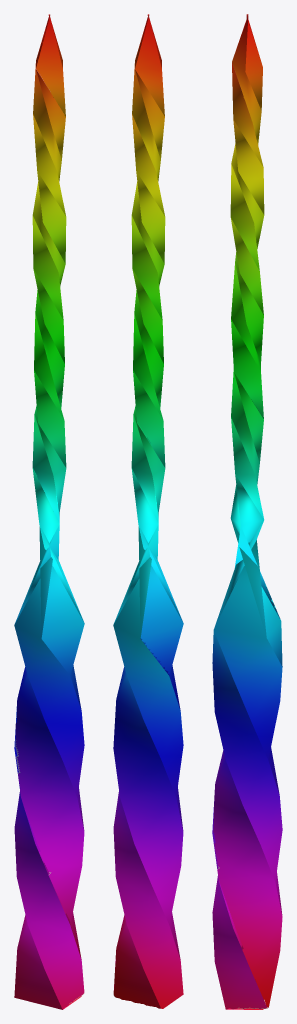
File: unicorn_fbx.FBX
3 views of the same model, side by side, from view 1: azimuth 30°, elevation 25°; view 2: azimuth 210°, elevation 25°; view 3: azimuth 330°, elevation 25° (orthographic).
Visible parts, largest first — view 1: unicorn; view 2: unicorn; view 3: unicorn.
Boxes of the visible parts, x1,y1,x2,y2 form: unicorn: [14, 14, 84, 1009]; unicorn: [113, 14, 183, 1008]; unicorn: [212, 14, 282, 1009].
Bounding box in the file's own units: 16.64 × 257 × 16.64.
Materials: 1 (1 with a texture image).
